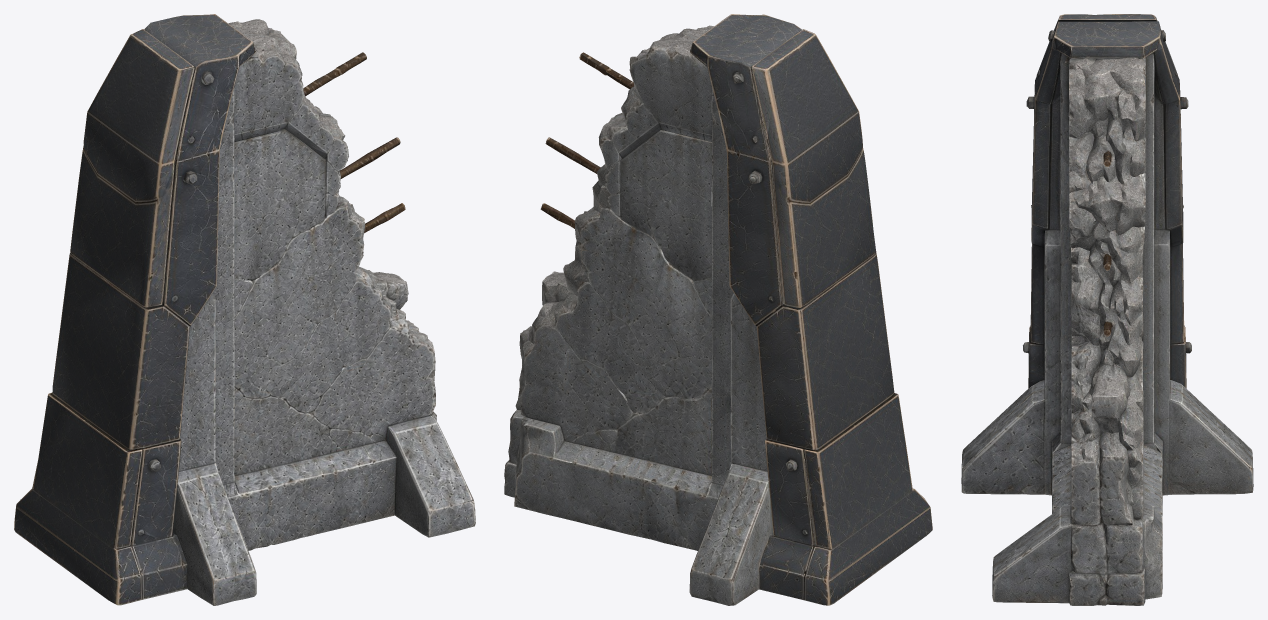
The model's file is shared_rubble_kit__wall_stub_tall.glb.
3 views of the same model, side by side, from view 1: azimuth 30°, elevation 25°; view 2: azimuth 150°, elevation 25°; view 3: azimuth 270°, elevation 25° (orthographic). The views are drawn at different scales.
Visible parts, largest first — view 1: mesh_node; view 2: mesh_node; view 3: mesh_node.
Boxes of the visible parts, x1=… form: mesh_node: x1=14, y1=14, x2=475, y2=605; mesh_node: x1=504, y1=14, x2=932, y2=605; mesh_node: x1=961, y1=14, x2=1253, y2=605.
Bounding box in the file's own units: 4.37 × 5.79 × 3.25.
1 material, 1 textured.
